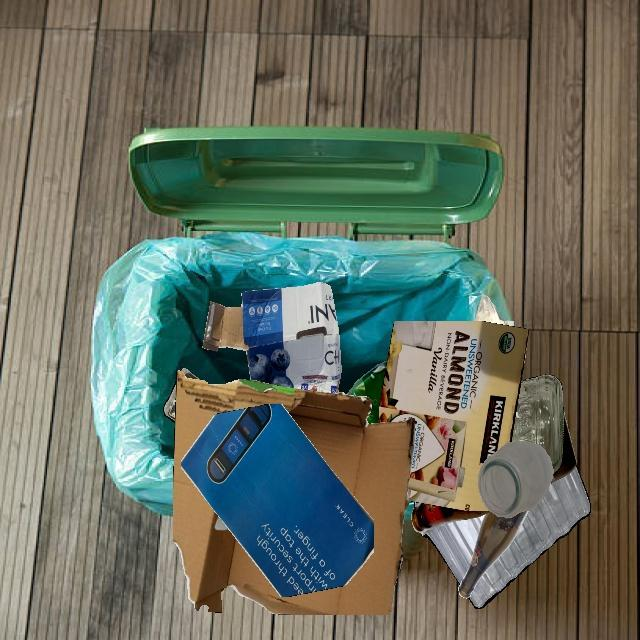biowaste: (337, 389, 339, 393)
cardboard: (173, 371, 414, 615), (379, 321, 530, 511), (202, 282, 341, 393)
glass: (459, 510, 529, 598), (478, 441, 553, 517), (511, 374, 564, 475), (411, 503, 491, 532), (550, 409, 577, 484)
paper: (181, 404, 374, 597), (475, 294, 514, 327)
plastic: (476, 464, 590, 609), (347, 361, 387, 424), (163, 380, 176, 423), (180, 367, 201, 380)
